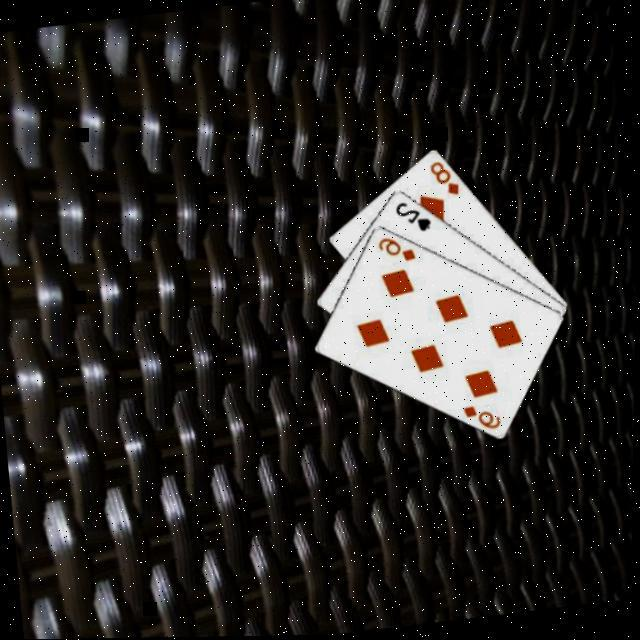2S: (388, 196, 432, 237)
6D: (457, 399, 502, 436), (372, 232, 417, 268)
8D: (424, 155, 462, 200)
